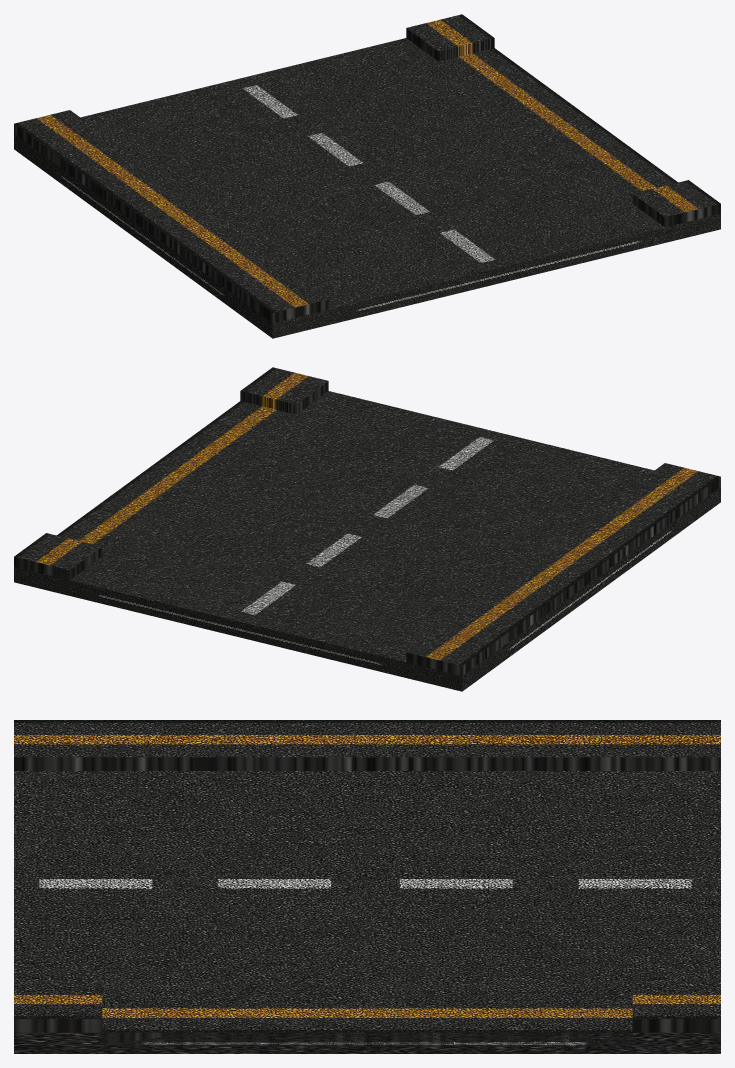
Rendered from Road_Tjunction.obj.
3 views of the same model, one above another, from view 1: azimuth 30°, elevation 25°; view 2: azimuth 150°, elevation 25°; view 3: azimuth 270°, elevation 25° (orthographic). The views are drawn at different scales.
Parts seen in each view (by area): view 1: Cube; view 2: Cube; view 3: Cube.
Part boxes in pixels (left/top/right/bottom): Cube: left=14, top=14, right=720, bottom=338; Cube: left=14, top=367, right=720, bottom=691; Cube: left=14, top=720, right=720, bottom=1053.
Size of the model in its own units: 60 by 3.28 by 60.
